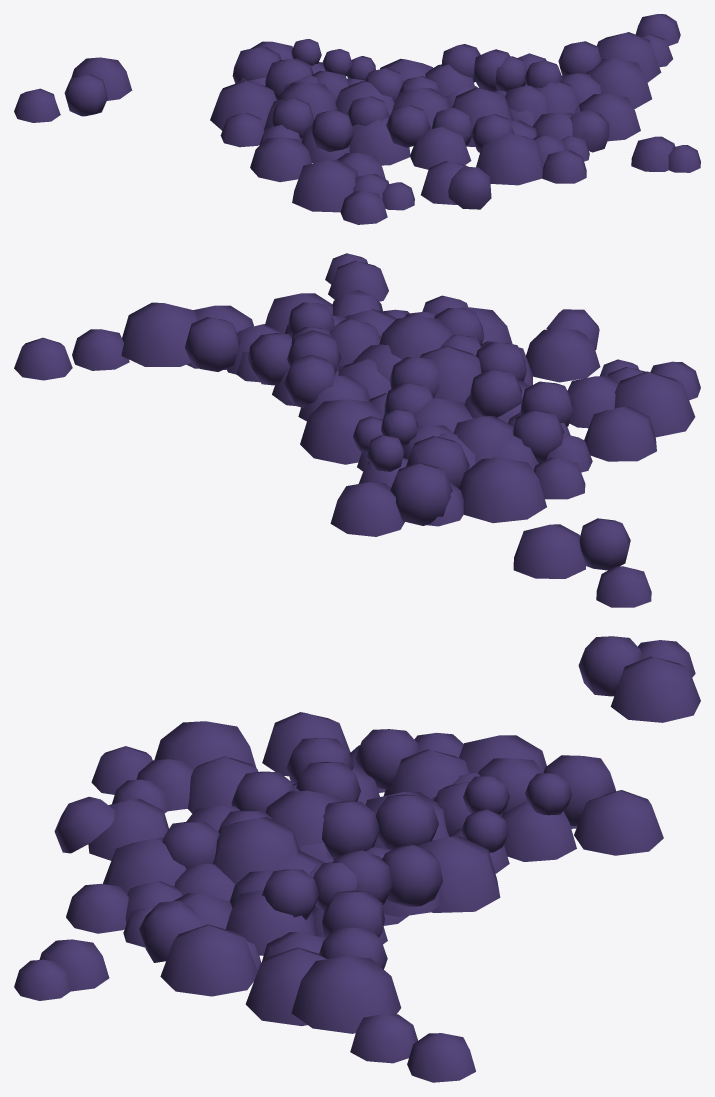
The model's file is SM_ballMound_A.fbx.
3 renders of one model, top to bottom at view 1: azimuth 30°, elevation 25°; view 2: azimuth 150°, elevation 25°; view 3: azimuth 270°, elevation 25°, orthographic. The views are drawn at different scales.
Visible parts, largest first — view 1: SM_ballMound_A; view 2: SM_ballMound_A; view 3: SM_ballMound_A.
Boxes of the visible parts, left/top/right/bottom form: SM_ballMound_A: left=14, top=14, right=700, bottom=224; SM_ballMound_A: left=14, top=253, right=700, bottom=607; SM_ballMound_A: left=14, top=636, right=700, bottom=1082.
Size of the model in its own units: 3.48 by 0.3693 by 2.41.
